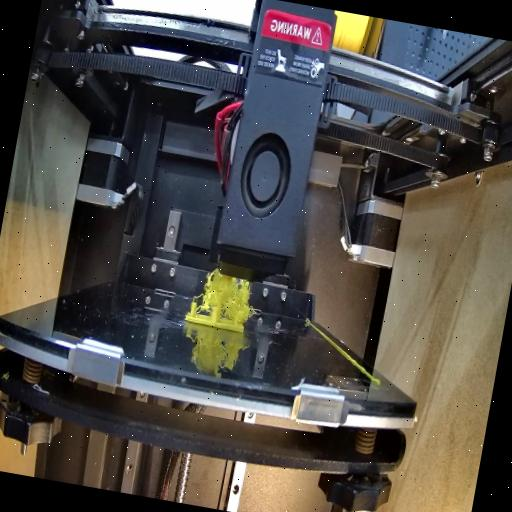spaghetti: (189, 264, 260, 321)
